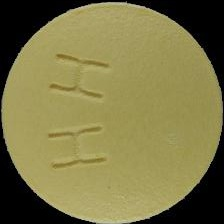69189-0288: (0, 0, 224, 224)
